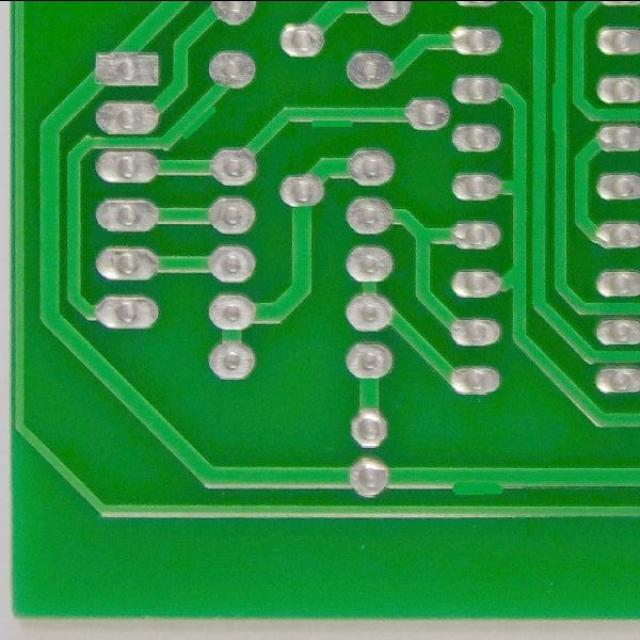spur: (441, 456, 513, 502), (178, 96, 221, 149), (306, 108, 360, 138), (547, 74, 570, 140)
